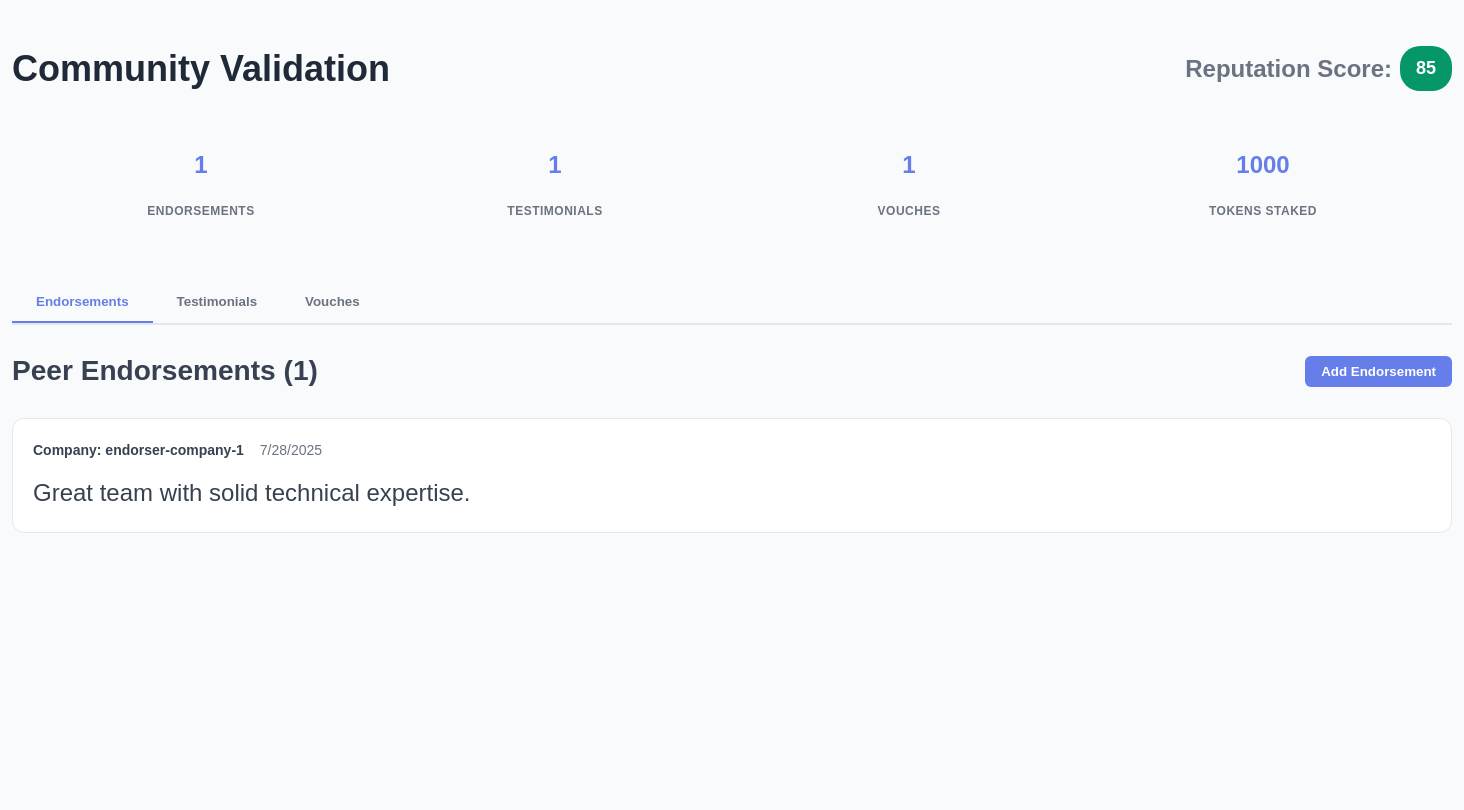
CommunityValidation › Tab Navigation › should hide add form when switching tabs
The width and height of the screenshot is (1464, 810).
# Open add form in endorsements tab
Step 1. Click the button "Add Endorsement" → point(1379, 372), box [1305,356,1452,387]
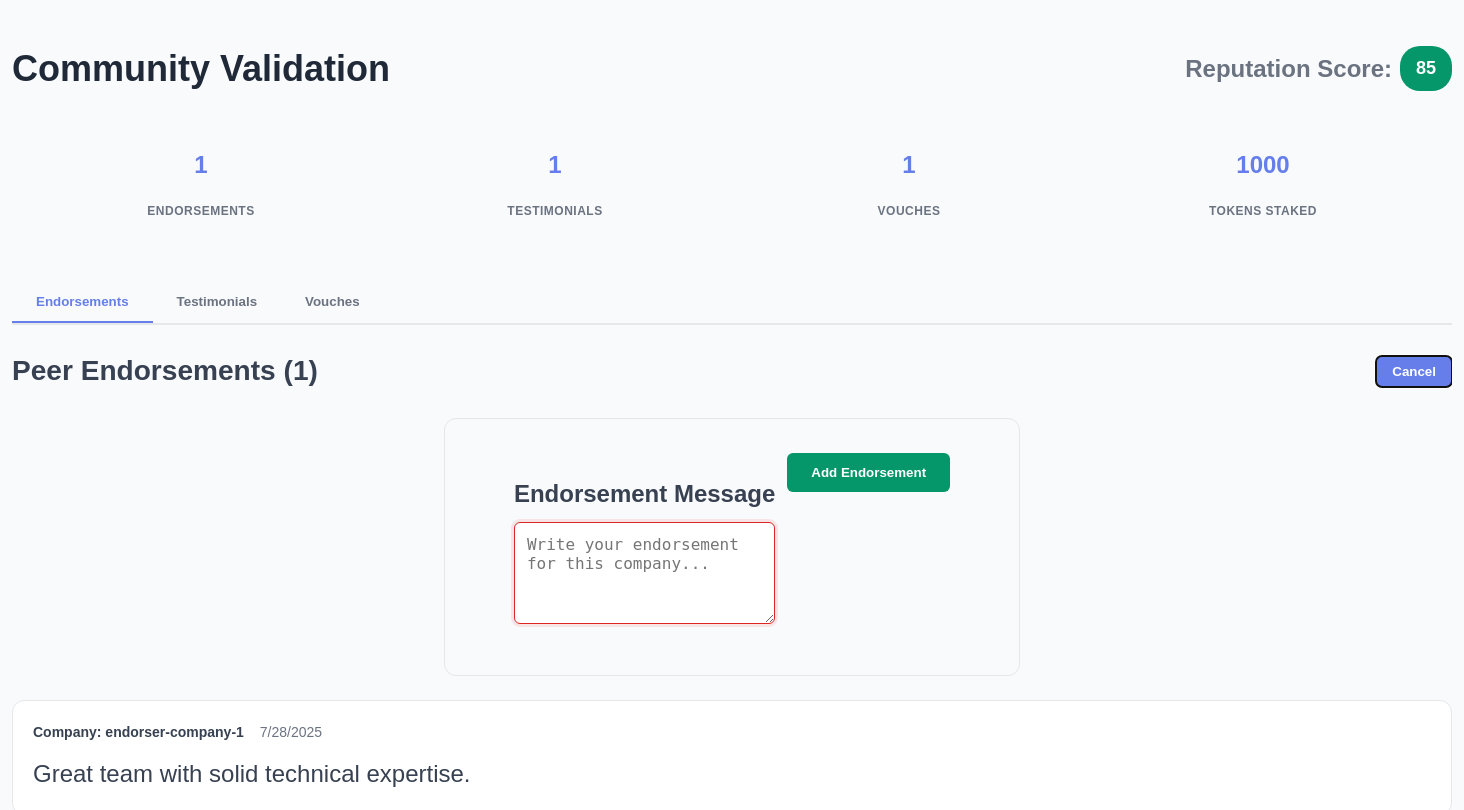
Result: the text "Endorsement Message" is shown at [514,475,775,514]
# Switch to testimonials tab
Step 2. Click the button "Testimonials" → point(217, 303), box [153,282,281,323]
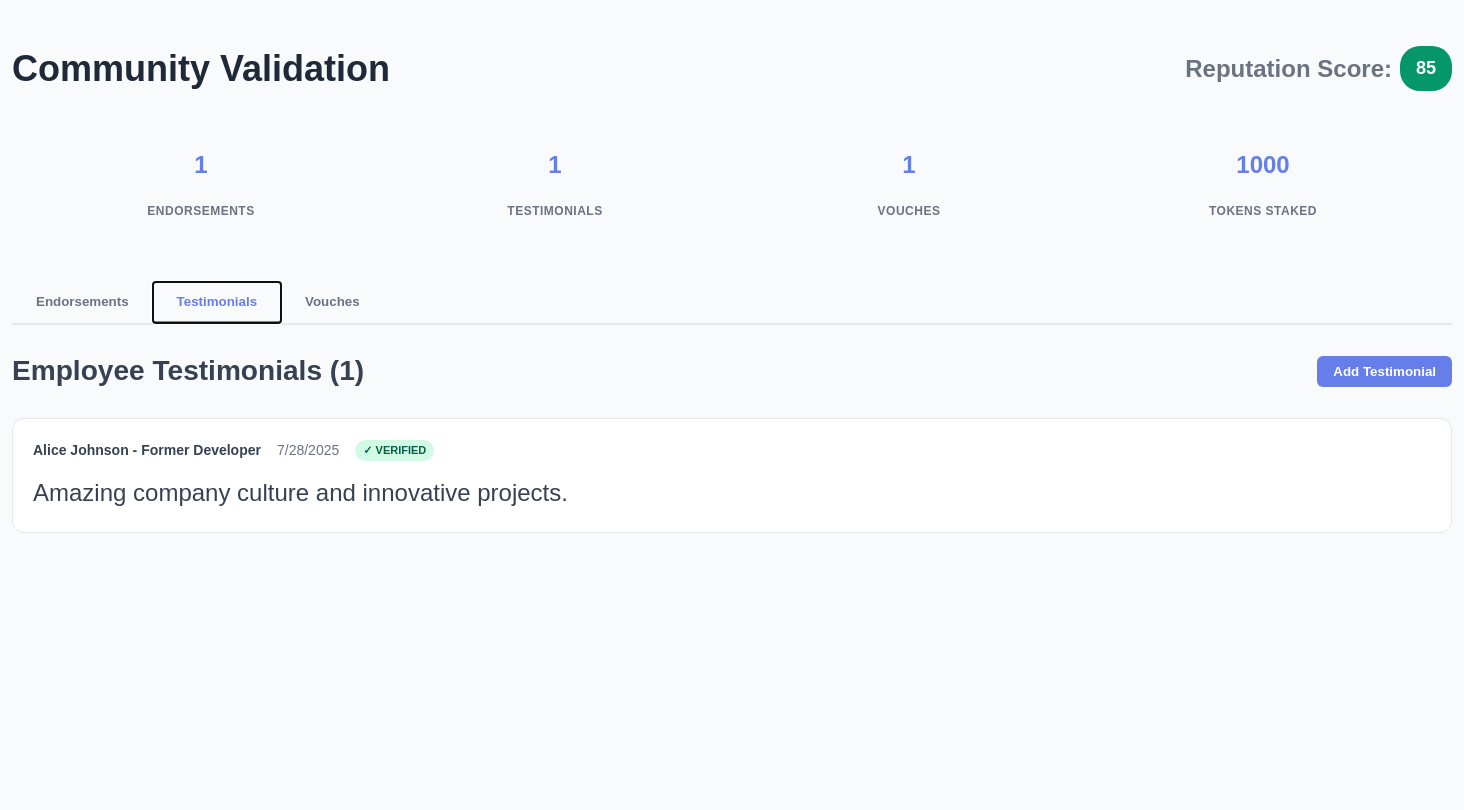
Result: the text "Endorsement Message" is gone
